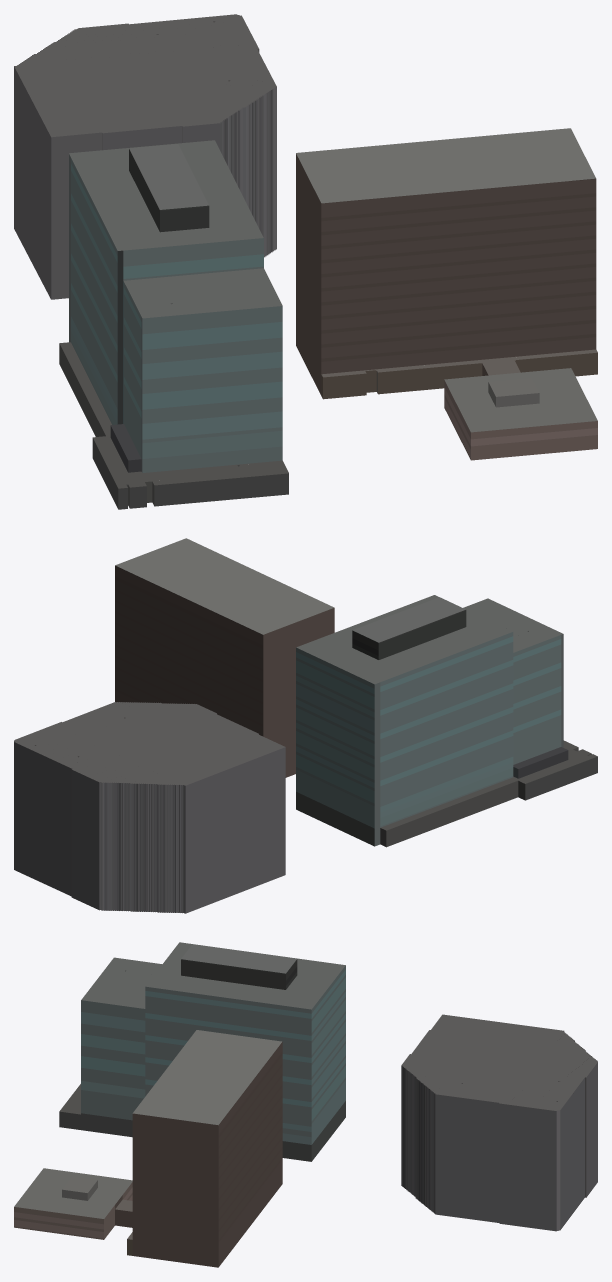
Rendered from t_0_3.far.glb.
3 renders of one model, top to bottom at view 1: azimuth 30°, elevation 25°; view 2: azimuth 150°, elevation 25°; view 3: azimuth 270°, elevation 25°, orthographic. The views are drawn at different scales.
Visible parts, largest first — view 1: opaque; view 2: opaque; view 3: opaque.
Part boxes in pixels (<box>): opaque: <box>14,14,597,509</box>; opaque: <box>14,538,597,913</box>; opaque: <box>14,942,597,1267</box>.
Size of the model in its own units: 159 by 64.92 by 204.
1 material, 1 textured.
